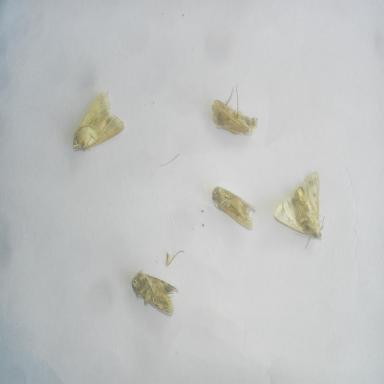abw: (271, 168, 328, 253), (70, 86, 127, 158), (210, 82, 265, 141), (209, 180, 261, 235), (130, 265, 182, 320)
